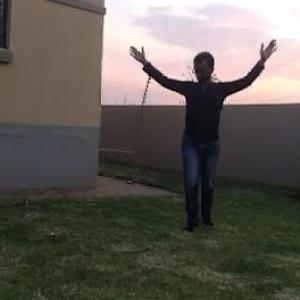takeoff: (128, 33, 288, 219)
